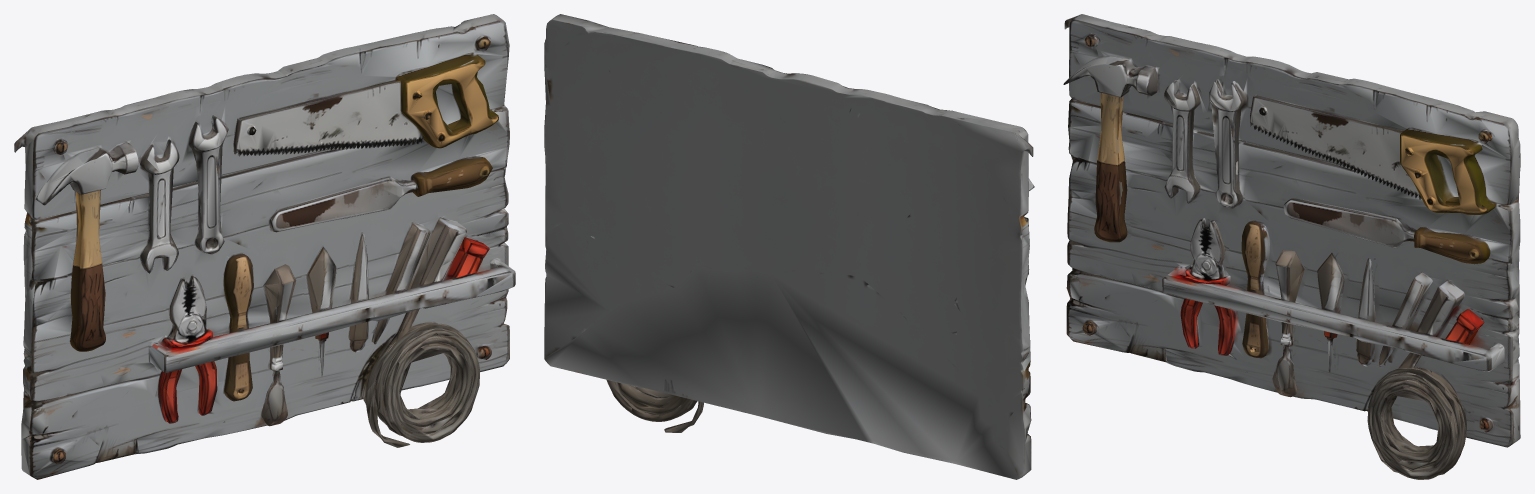
The model's file is lhi_tool_wall.glb.
The picture shows the model from 3 angles, left to right: view 1: azimuth 30°, elevation 25°; view 2: azimuth 150°, elevation 25°; view 3: azimuth 330°, elevation 25°; orthographic projection. The views are drawn at different scales.
Visible parts, largest first — view 1: material; view 2: material; view 3: material.
Boxes of the visible parts, x1,y1,x2,y2 form: material: (14, 14, 515, 479); material: (544, 14, 1034, 479); material: (1063, 14, 1520, 479).
Size of the model in its own units: 0.9649 by 0.7529 by 0.0867.
Materials: 1 (1 with a texture image).
